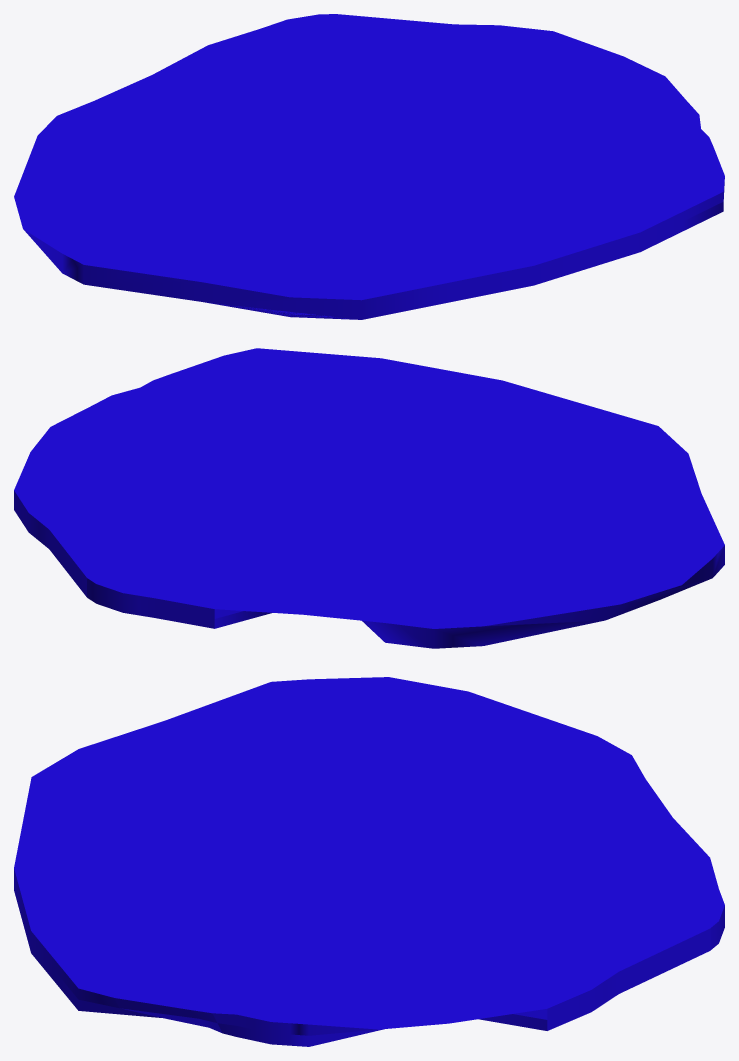
File: puddle2.fbx
3 views of the same model, one above another, from view 1: azimuth 30°, elevation 25°; view 2: azimuth 150°, elevation 25°; view 3: azimuth 270°, elevation 25° (orthographic). The views are drawn at different scales.
Visible parts, largest first — view 1: pCylinder1; view 2: pCylinder1; view 3: pCylinder1.
Boxes of the visible parts, left/top/right/bottom form: pCylinder1: left=14, top=14, right=724, bottom=319; pCylinder1: left=14, top=348, right=724, bottom=648; pCylinder1: left=14, top=677, right=724, bottom=1046.
Size of the model in its own units: 6.75 by 0.2 by 5.75.
